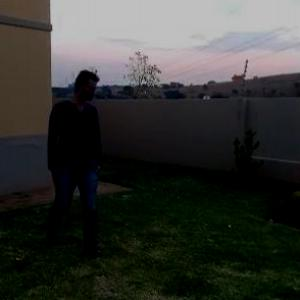follow: (47, 59, 118, 272)
